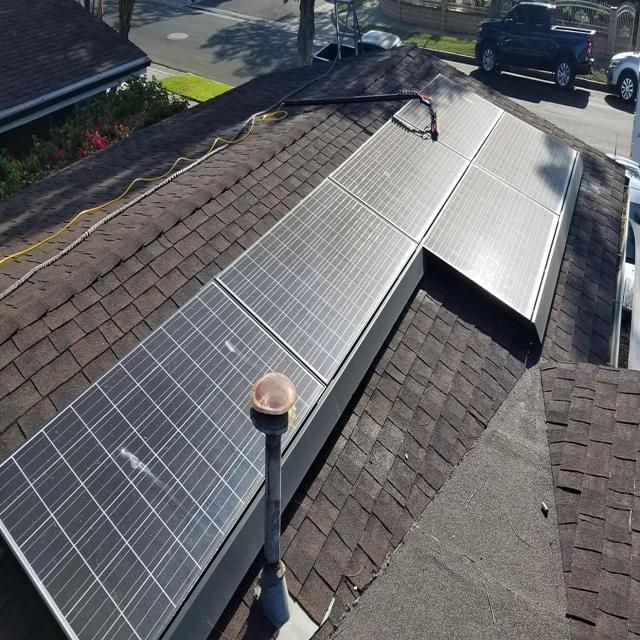dust-solar-panel: (0, 69, 580, 639)
